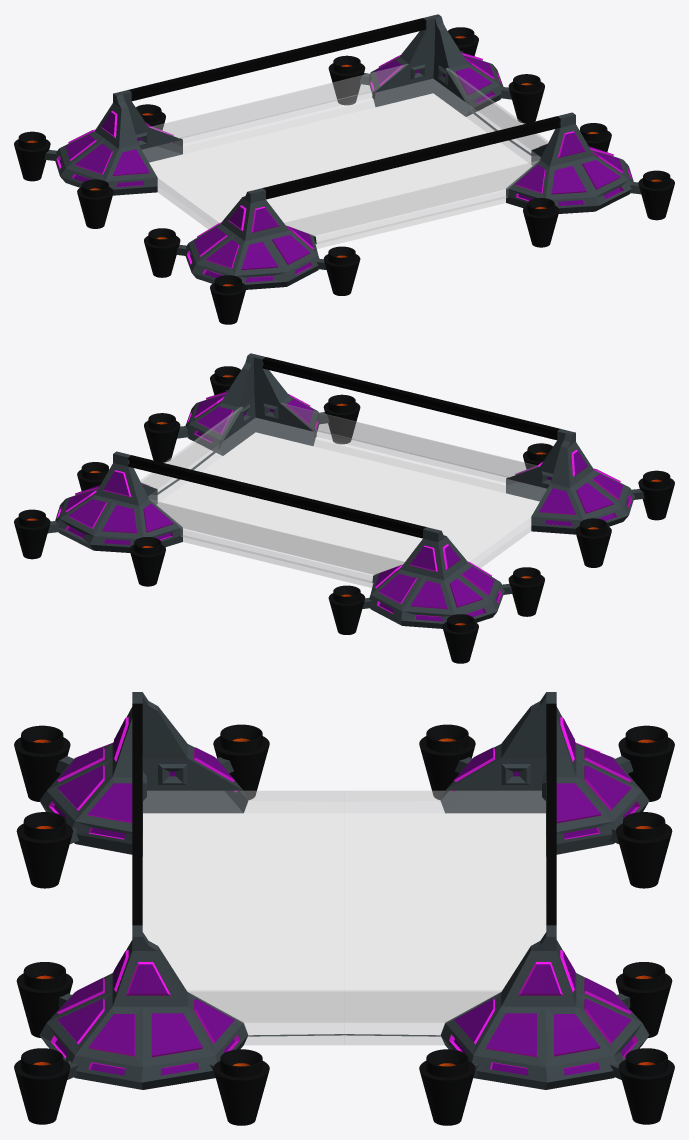
Rendered from Arena.gltf.
3 views of the same model, one above another, from view 1: azimuth 30°, elevation 25°; view 2: azimuth 150°, elevation 25°; view 3: azimuth 270°, elevation 25° (orthographic). The views are drawn at different scales.
Visible parts, largest first — view 1: Cube; view 2: Cube; view 3: Cube.
Boxes of the visible parts, x1,y1,x2,y2 form: Cube: (14, 14, 674, 324); Cube: (14, 353, 674, 663); Cube: (14, 692, 674, 1125).
Bounding box in the file's own units: 29.17 × 5.58 × 23.37.
2 materials, 1 textured.
